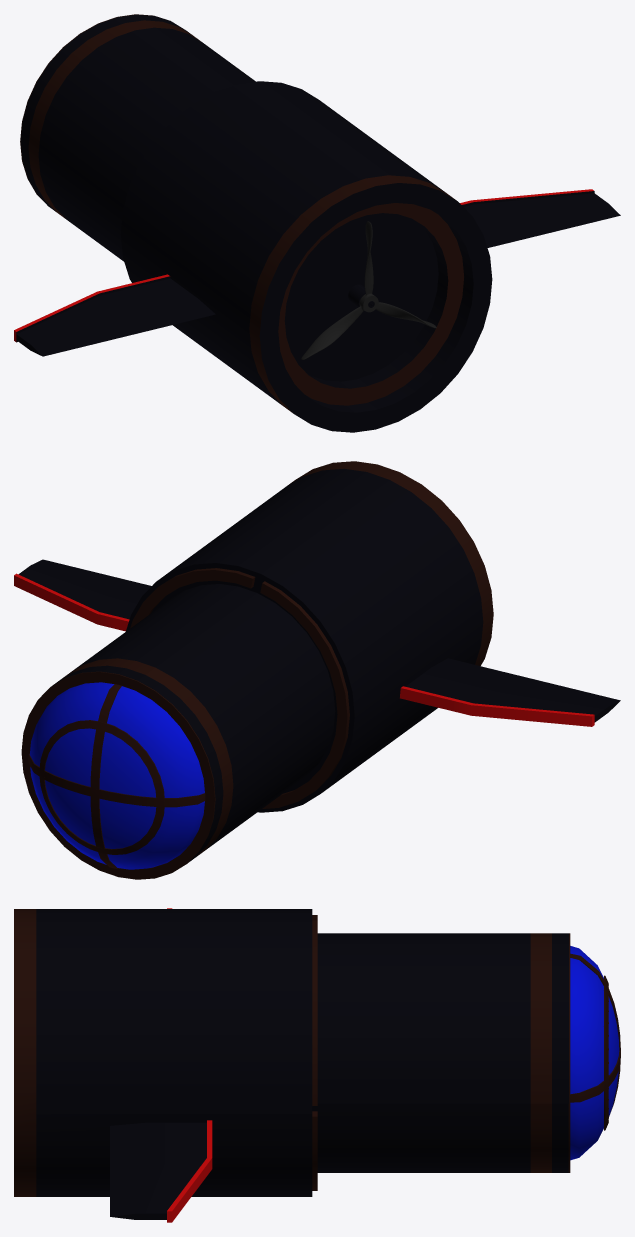
The model's file is Submarine_Substance.fbx.
The picture shows the model from 3 angles, top to bottom: view 1: azimuth 30°, elevation 25°; view 2: azimuth 150°, elevation 25°; view 3: azimuth 270°, elevation 25°; orthographic projection. The views are drawn at different scales.
Parts seen in each view (by area): view 1: Submarine_Body (×2), Submarine_Body_Cut (×2), Wings (×2), Propeller; view 2: Submarine_Body (×2), Glass Panel (×2), Submarine_Body_Cut (×2), Wings (×2); view 3: Submarine_Body_Cut (×2), Submarine_Body (×2), Glass Panel (×2), Wings (×2).
Boxes of the visible parts, x1,y1,x2,y2 form: Submarine_Body (×2): [20, 24, 492, 432]; Submarine_Body_Cut (×2): [99, 14, 445, 192]; Wings (×2): [14, 189, 620, 356]; Propeller: [301, 221, 436, 359]; Submarine_Body (×2): [138, 461, 493, 861]; Glass Panel (×2): [21, 671, 215, 879]; Submarine_Body_Cut (×2): [52, 468, 389, 698]; Wings (×2): [14, 559, 620, 726]; Submarine_Body_Cut (×2): [36, 913, 568, 1113]; Submarine_Body (×2): [14, 909, 568, 1196]; Glass Panel (×2): [568, 933, 620, 1172]; Wings (×2): [110, 908, 212, 1222].
Size of the model in its own units: 10752 by 4327 by 9111.
